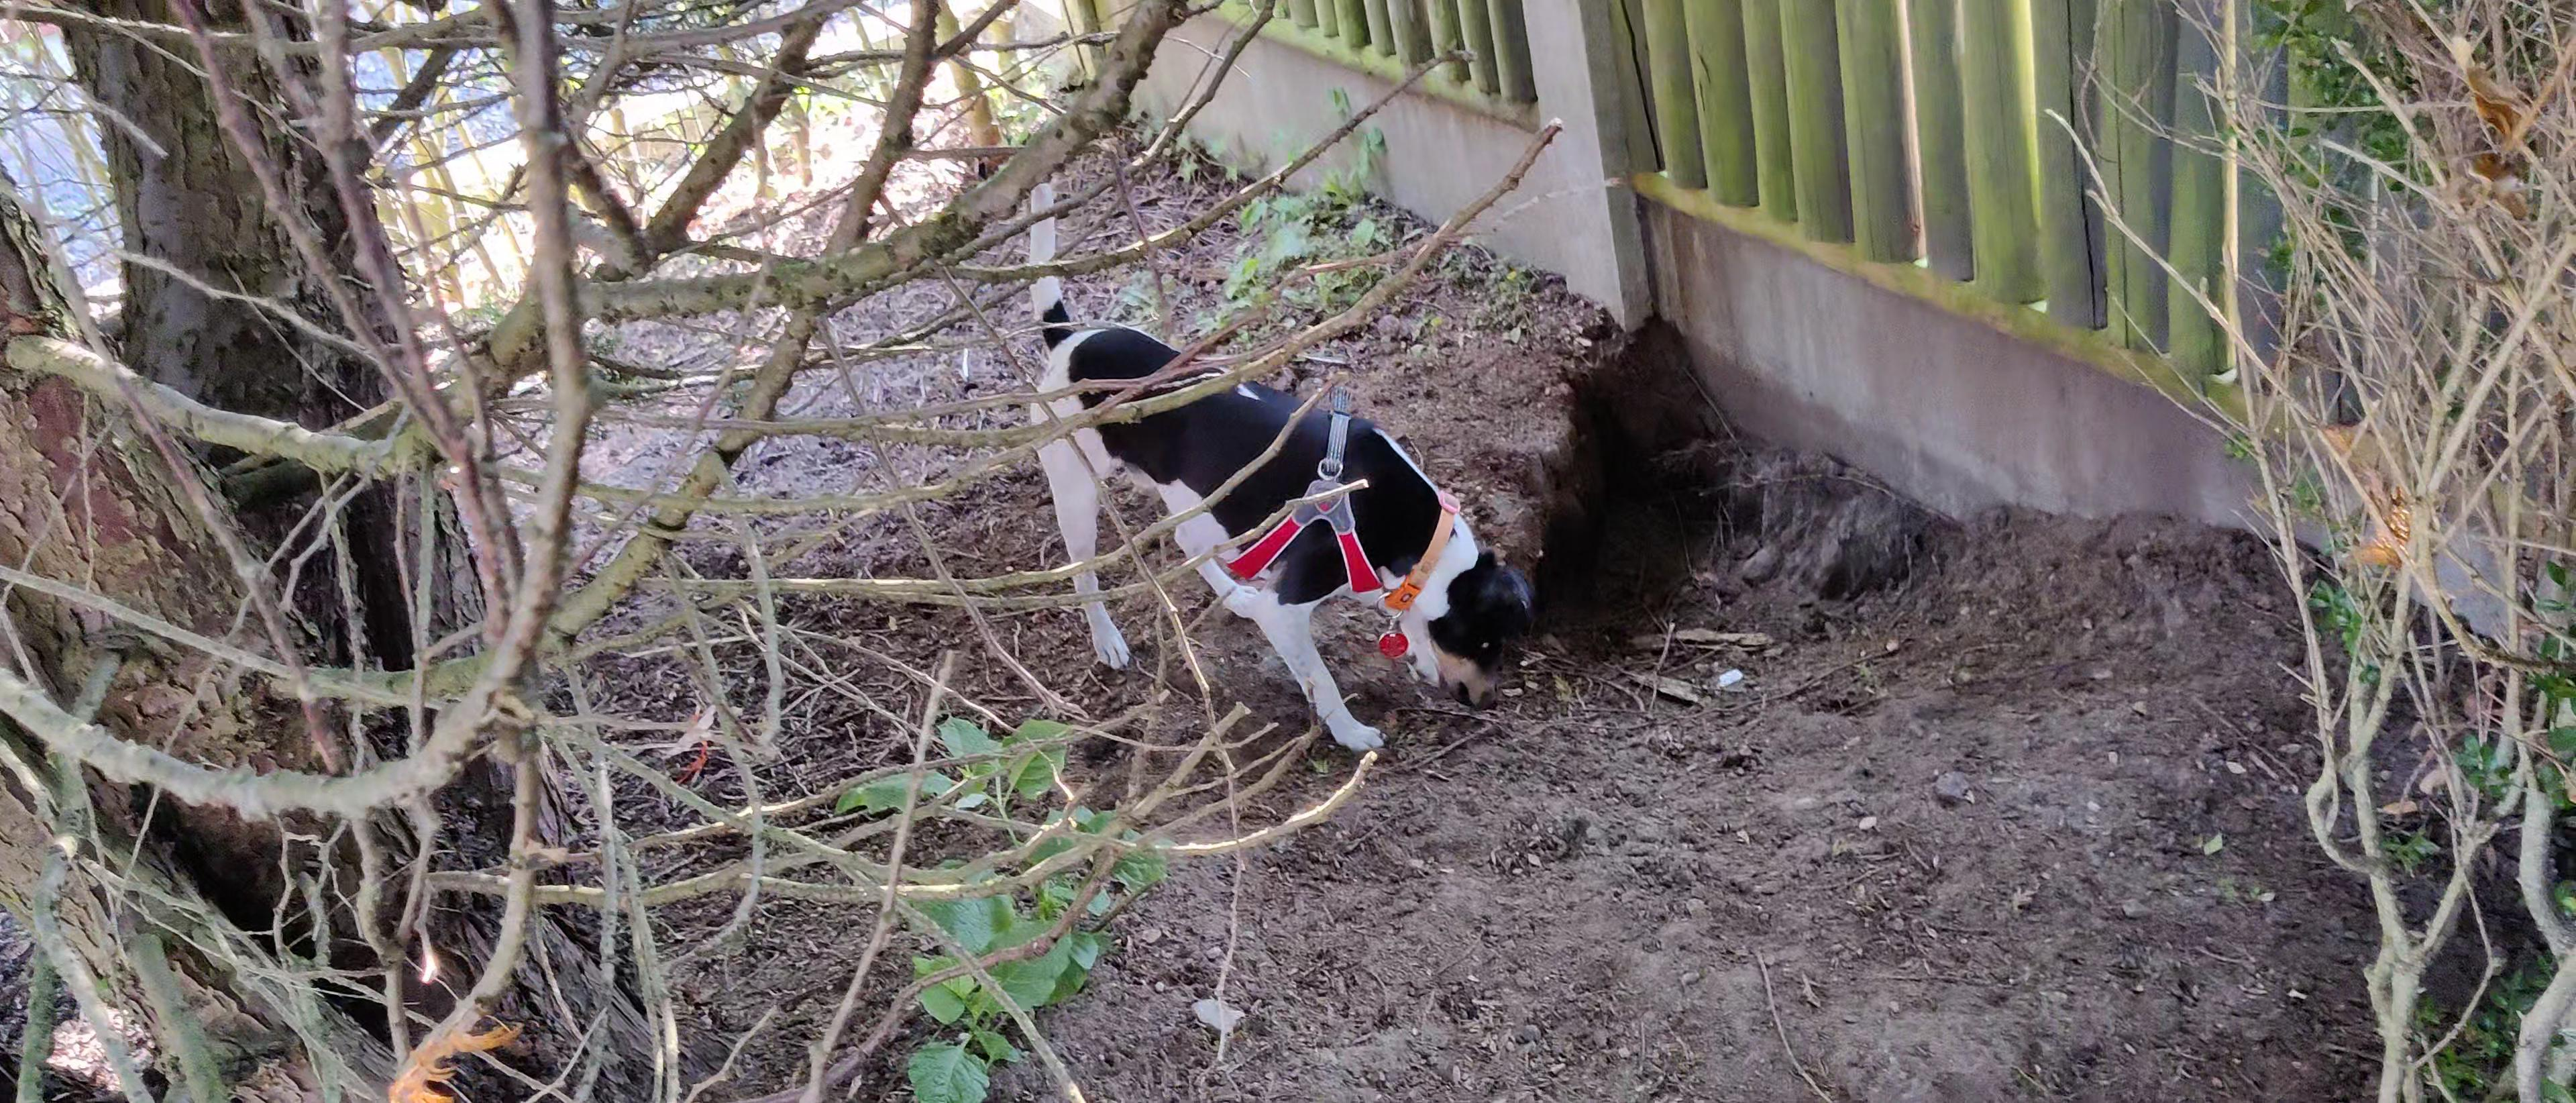Dog: (1010, 130, 1551, 761)
